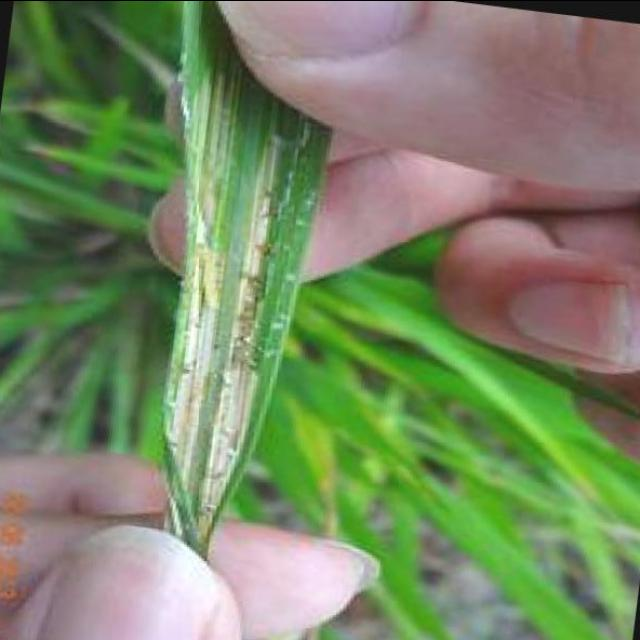leaf folder: (201, 231, 238, 328)
